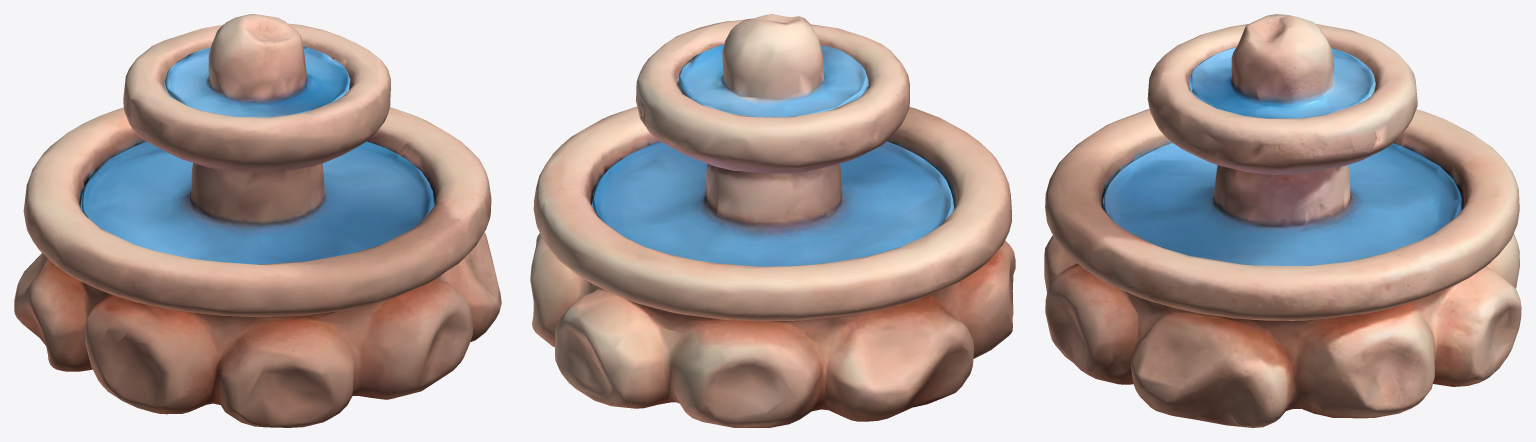
File: fountain.glb
3 renders of one model, left to right at view 1: azimuth 30°, elevation 25°; view 2: azimuth 150°, elevation 25°; view 3: azimuth 270°, elevation 25°, orthographic. The views are drawn at different scales.
Visible parts, largest first — view 1: tripo_node_de4c757d-6598-43d4-9914-19f90dae8918; view 2: tripo_node_de4c757d-6598-43d4-9914-19f90dae8918; view 3: tripo_node_de4c757d-6598-43d4-9914-19f90dae8918.
Part boxes in pixels (x1,y1,x2,y2): tripo_node_de4c757d-6598-43d4-9914-19f90dae8918: (14,14,501,427); tripo_node_de4c757d-6598-43d4-9914-19f90dae8918: (530,14,1015,427); tripo_node_de4c757d-6598-43d4-9914-19f90dae8918: (1044,14,1521,427).
Bounding box in the file's own units: 0.9991 × 0.7387 × 0.9984.
Materials: 1 (1 with a texture image).
